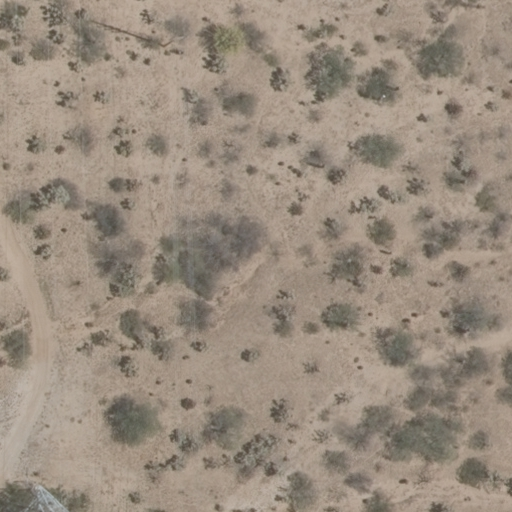DT: (157, 26, 190, 50)
